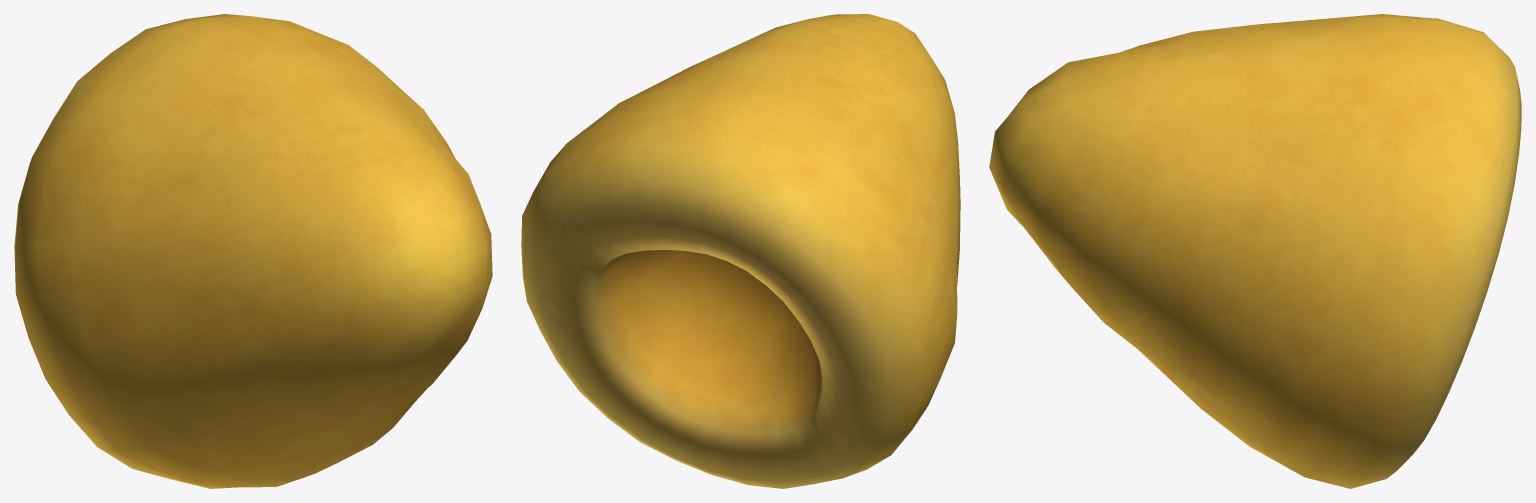
File: ref_bfwowotou.glb
3 renders of one model, left to right at view 1: azimuth 30°, elevation 25°; view 2: azimuth 150°, elevation 25°; view 3: azimuth 270°, elevation 25°, orthographic. The views are drawn at different scales.
Parts seen in each view (by area): view 1: ref_bfwowotou; view 2: ref_bfwowotou; view 3: ref_bfwowotou.
Part boxes in pixels (left/top/right/bottom): ref_bfwowotou: left=14, top=14, right=492, bottom=488; ref_bfwowotou: left=521, top=14, right=960, bottom=488; ref_bfwowotou: left=989, top=14, right=1521, bottom=488.
Bounding box in the file's own units: 0.9037 × 0.8919 × 1.
1 material, 1 textured.
